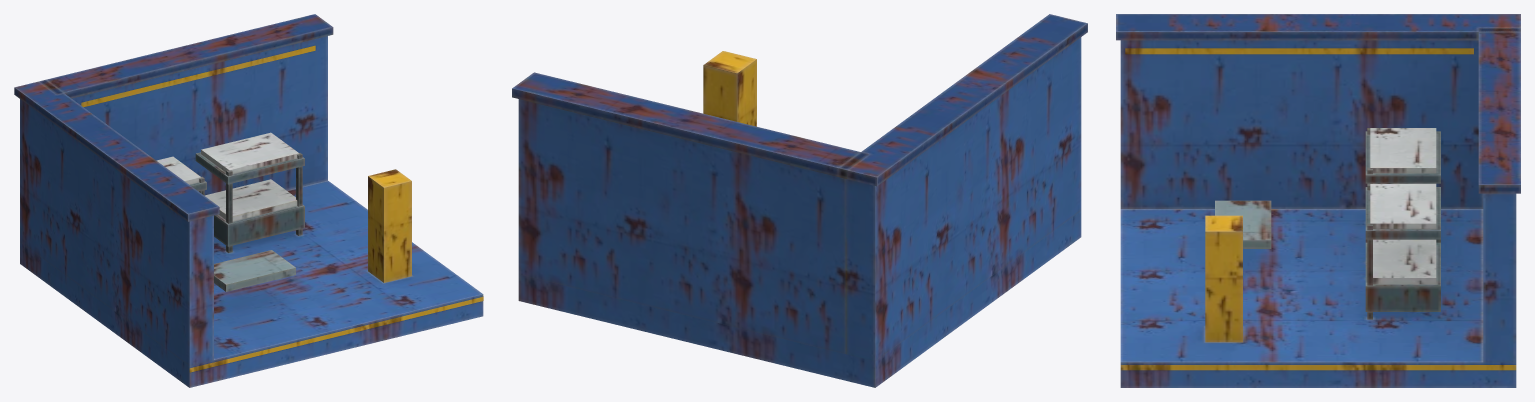
The model's file is habitat_t2.glb.
3 renders of one model, left to right at view 1: azimuth 30°, elevation 25°; view 2: azimuth 150°, elevation 25°; view 3: azimuth 270°, elevation 25°, orthographic. The views are drawn at different scales.
Visible parts, largest first — view 1: te_habitat_t2; view 2: te_habitat_t2; view 3: te_habitat_t2.
Part boxes in pixels (x1=…): te_habitat_t2: x1=14, y1=14, x2=483, y2=387; te_habitat_t2: x1=512, y1=14, x2=1087, y2=387; te_habitat_t2: x1=1116, y1=14, x2=1520, y2=387.
Size of the model in its own units: 0.86 by 0.48 by 0.86.
1 material, 1 textured.
